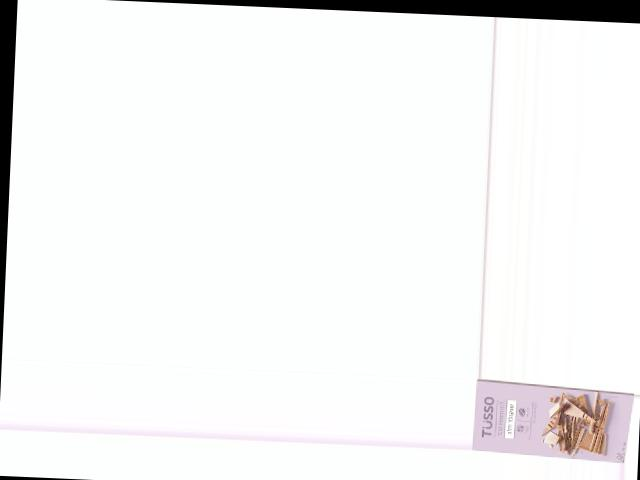chocolate: (475, 383, 634, 459)
